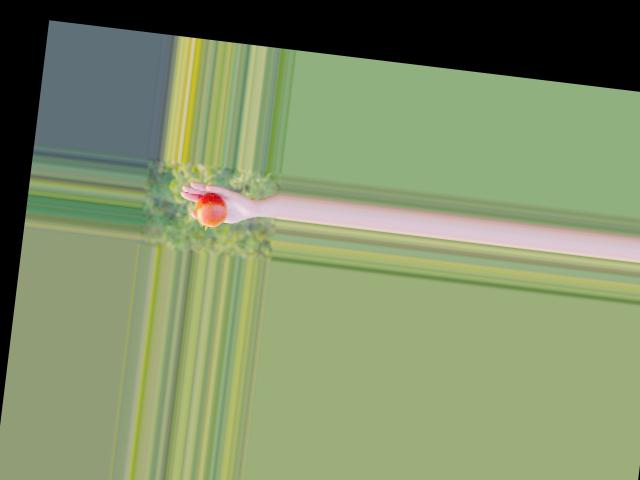tomato: (194, 190, 228, 227)
